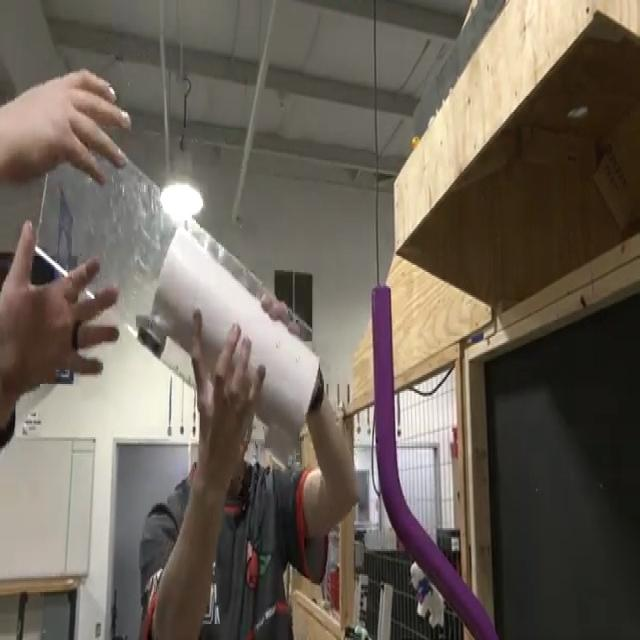Coral: (152, 227, 320, 441)
